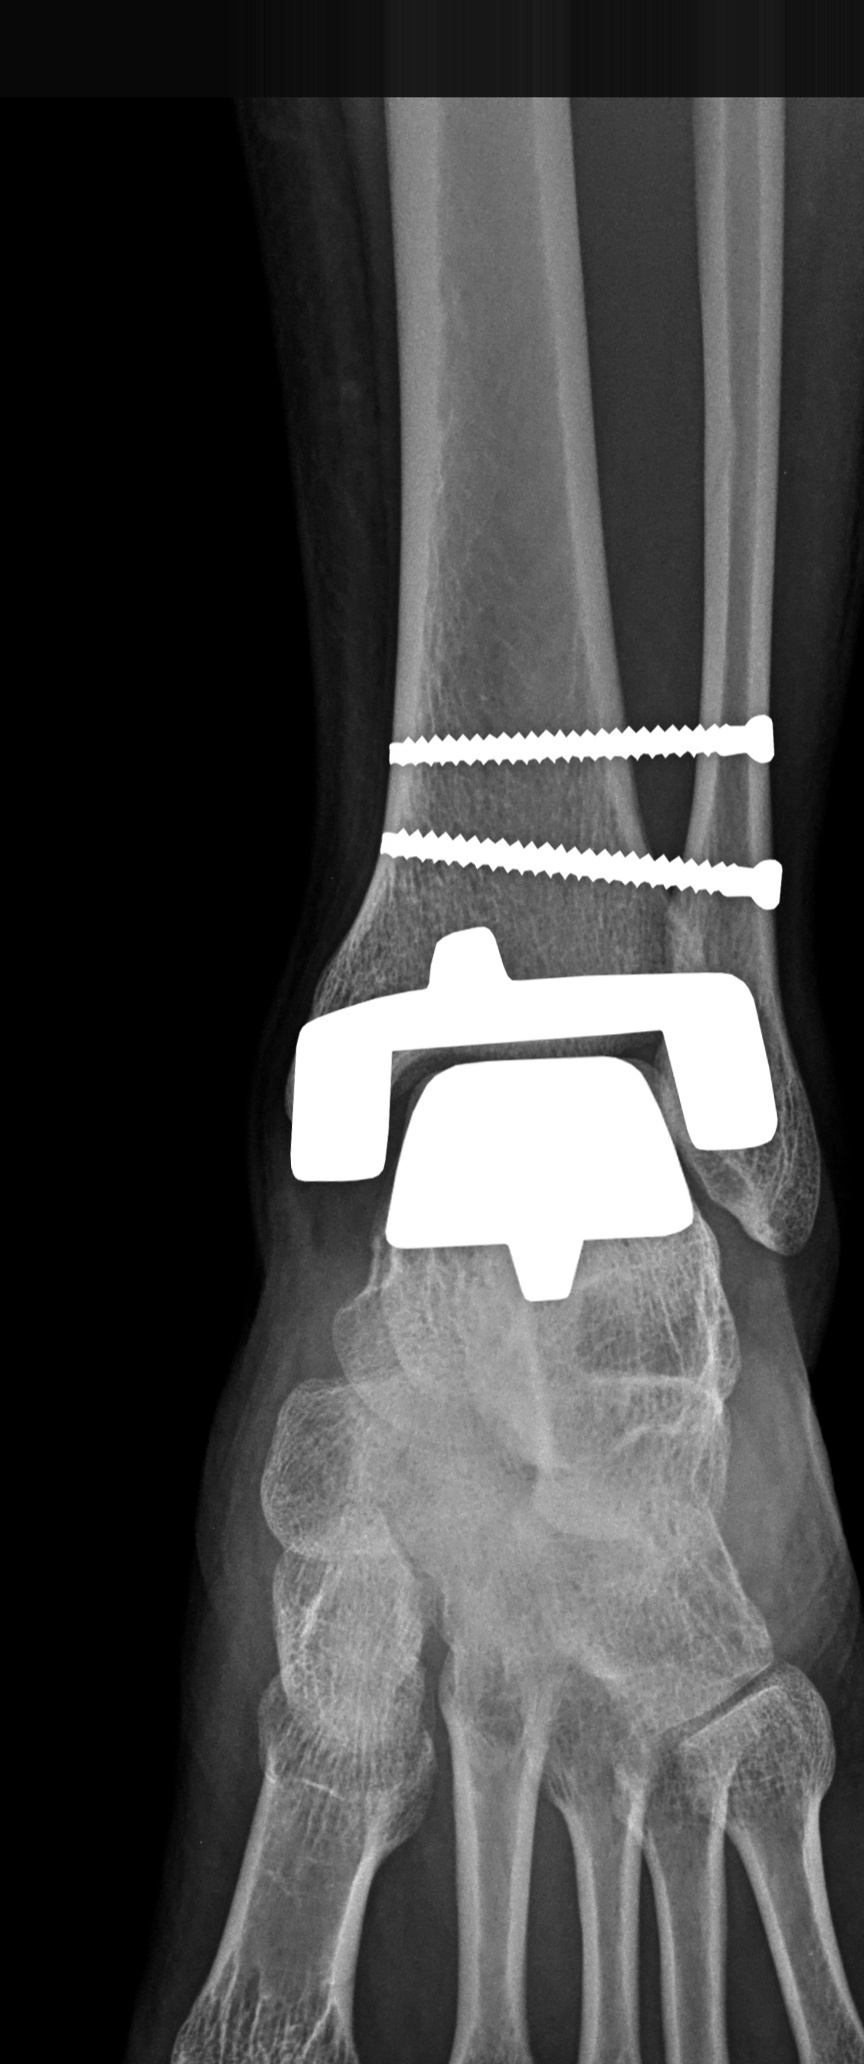Ankle - Agility - DePuy: (230, 708, 811, 1333)
